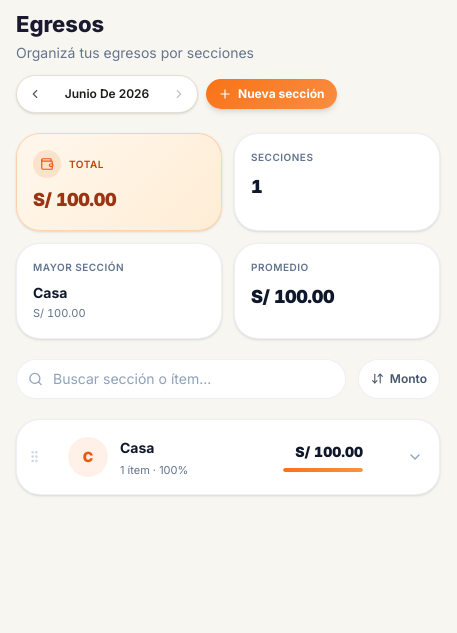
should PresupuestoView › should show inline add form when add item button is clicked
This screenshot has width=457, height=633.
Click the button with test id "categoria-header" at (88, 457), box [52, 420, 439, 494]
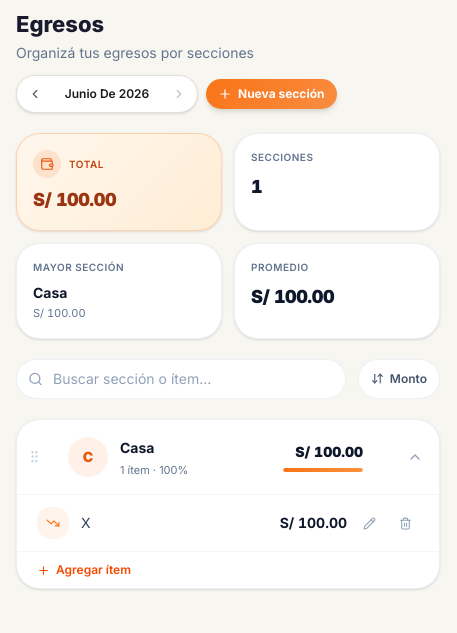
Click the button with test id "add-item-button" at (84, 570), box [37, 562, 131, 578]
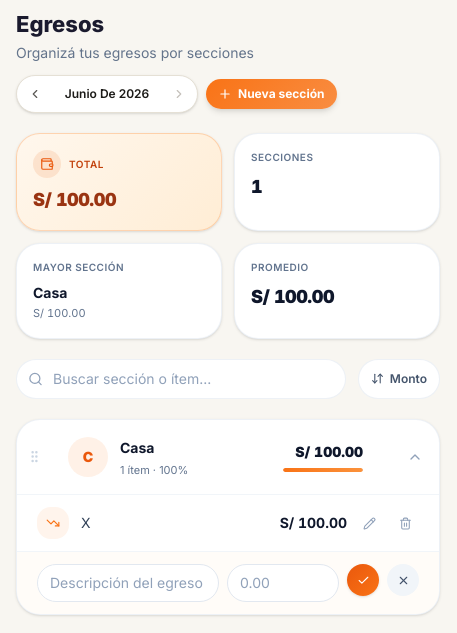
expect the element with test id "inline-add-form" is shown: met, box [17, 551, 439, 614]
expect the field with test id "inline-descripcion-input" is shown: met, box [37, 564, 219, 602]
expect the field with test id "inline-monto-input" is shown: met, box [227, 564, 339, 602]
